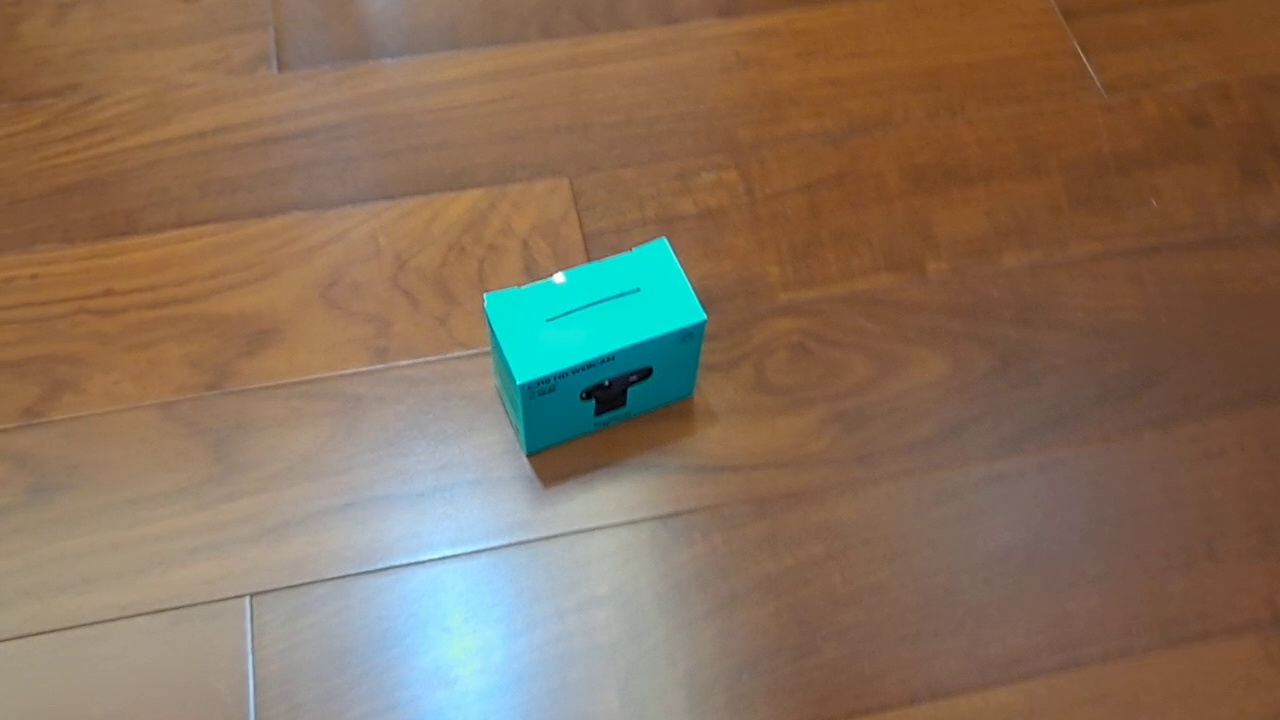webcam: (482, 235, 709, 458)
